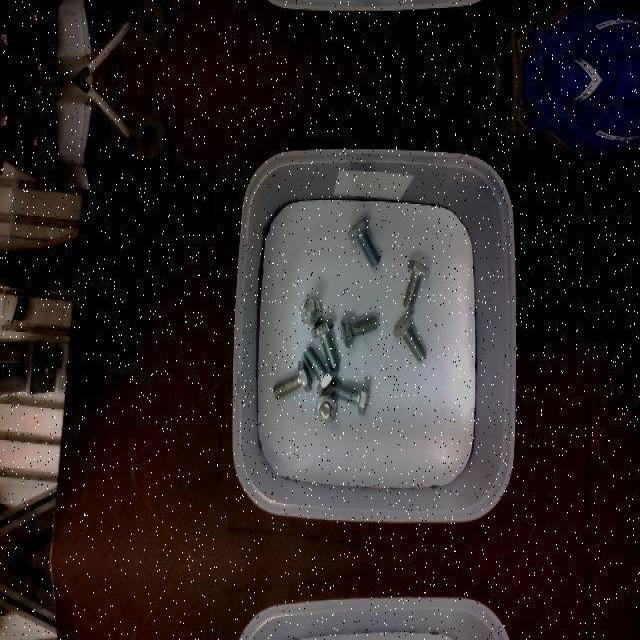screw: (392, 312, 426, 362), (303, 346, 337, 396), (347, 216, 380, 266), (311, 318, 340, 370), (273, 361, 312, 399), (402, 260, 430, 312), (340, 314, 378, 348), (331, 383, 369, 415), (314, 392, 337, 424), (299, 296, 322, 326)
